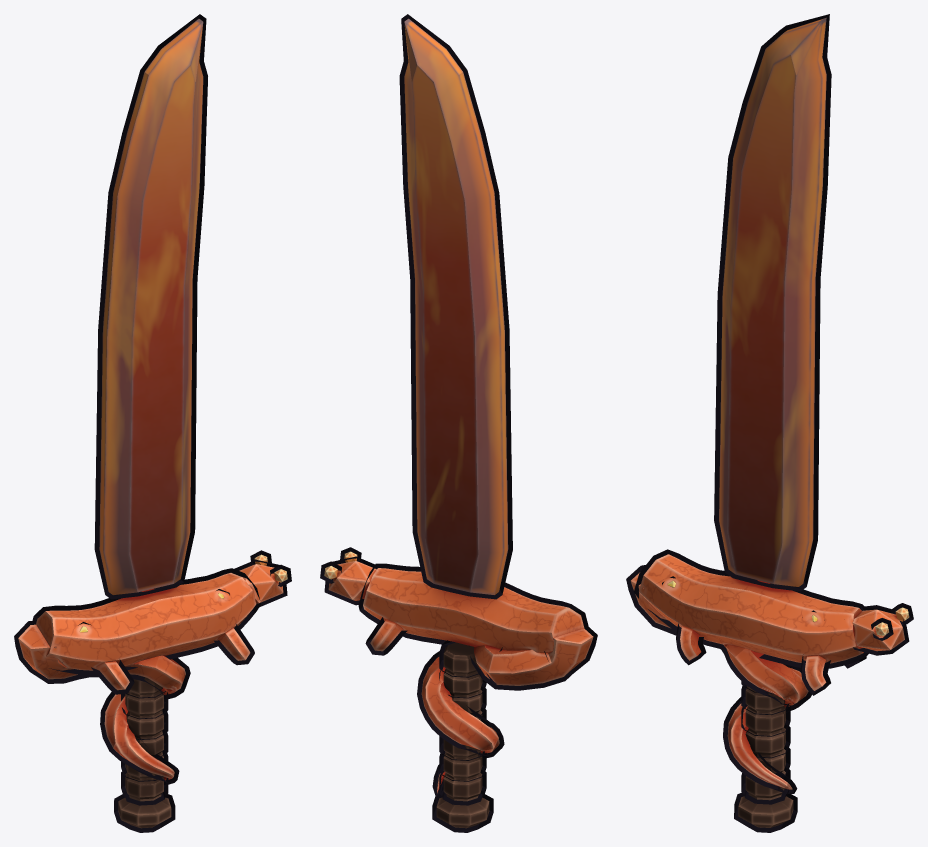
Rendered from SalamanderSword.fbx.
3 views of the same model, side by side, from view 1: azimuth 30°, elevation 25°; view 2: azimuth 150°, elevation 25°; view 3: azimuth 330°, elevation 25° (orthographic). The views are drawn at different scales.
Visible parts, largest first — view 1: SalamanderSword, SalamanderSwordOutline; view 2: SalamanderSword, SalamanderSwordOutline; view 3: SalamanderSword, SalamanderSwordOutline.
Part boxes in pixels (x1,y1,x2,y2): SalamanderSword: (18,19,283,828); SalamanderSwordOutline: (14,14,291,832); SalamanderSword: (328,18,593,828); SalamanderSwordOutline: (320,14,597,832); SalamanderSword: (631,17,904,827); SalamanderSwordOutline: (626,14,913,832).
Size of the model in its own units: 140 by 404 by 49.05.
2 materials, 1 textured.
